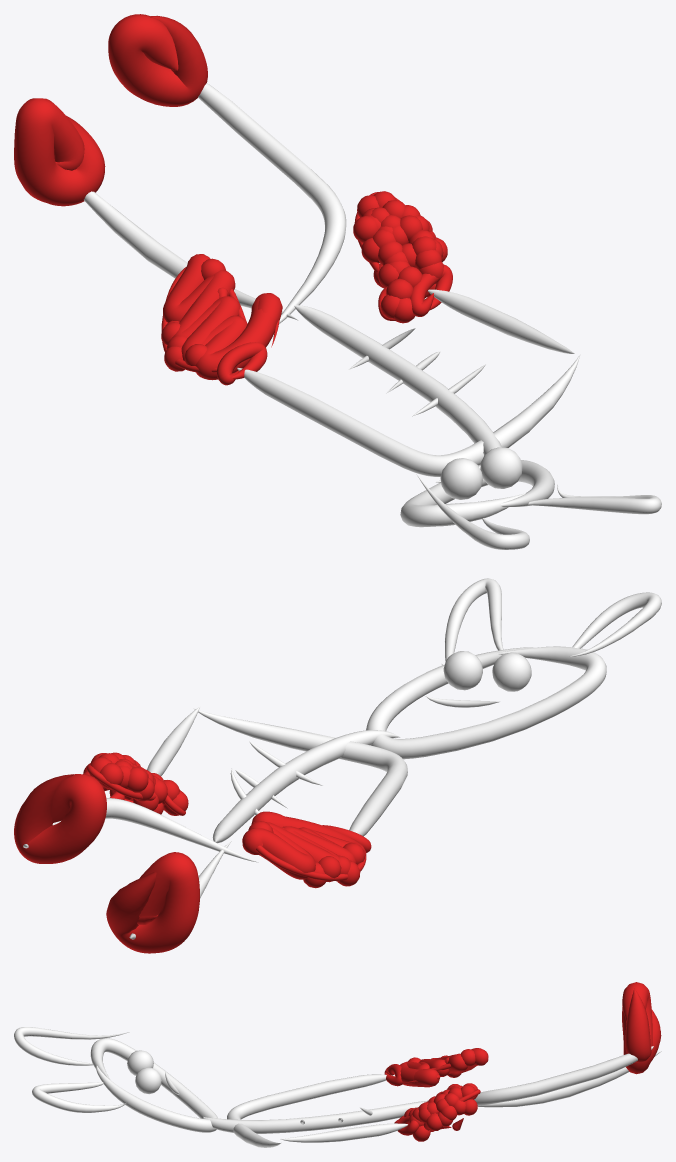
File: boxer.glb
The picture shows the model from 3 angles, top to bottom: view 1: azimuth 30°, elevation 25°; view 2: azimuth 150°, elevation 25°; view 3: azimuth 270°, elevation 25°; orthographic projection. The views are drawn at different scales.
Parts seen in each view (by area): view 1: boxer; view 2: boxer; view 3: boxer.
Boxes of the visible parts, box(x1,y1,x2,y2) form: boxer: box(14, 14, 661, 549); boxer: box(14, 578, 661, 953); boxer: box(14, 982, 661, 1147).
Bounding box in the file's own units: 0.4139 × 0.2934 × 1.2.
Materials: 1 (1 with a texture image).
